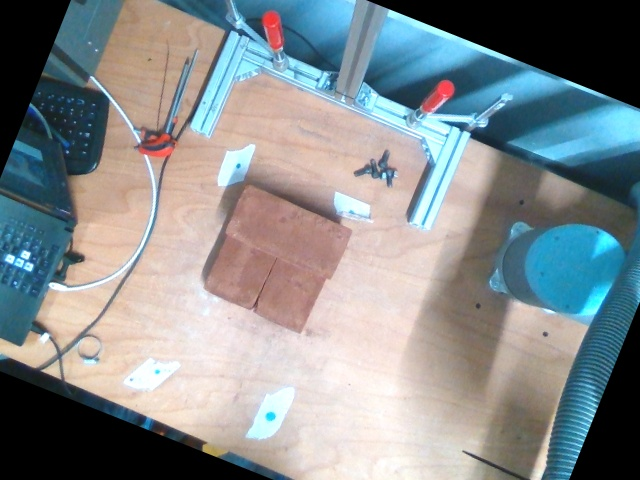brick: (226, 186, 350, 277)
